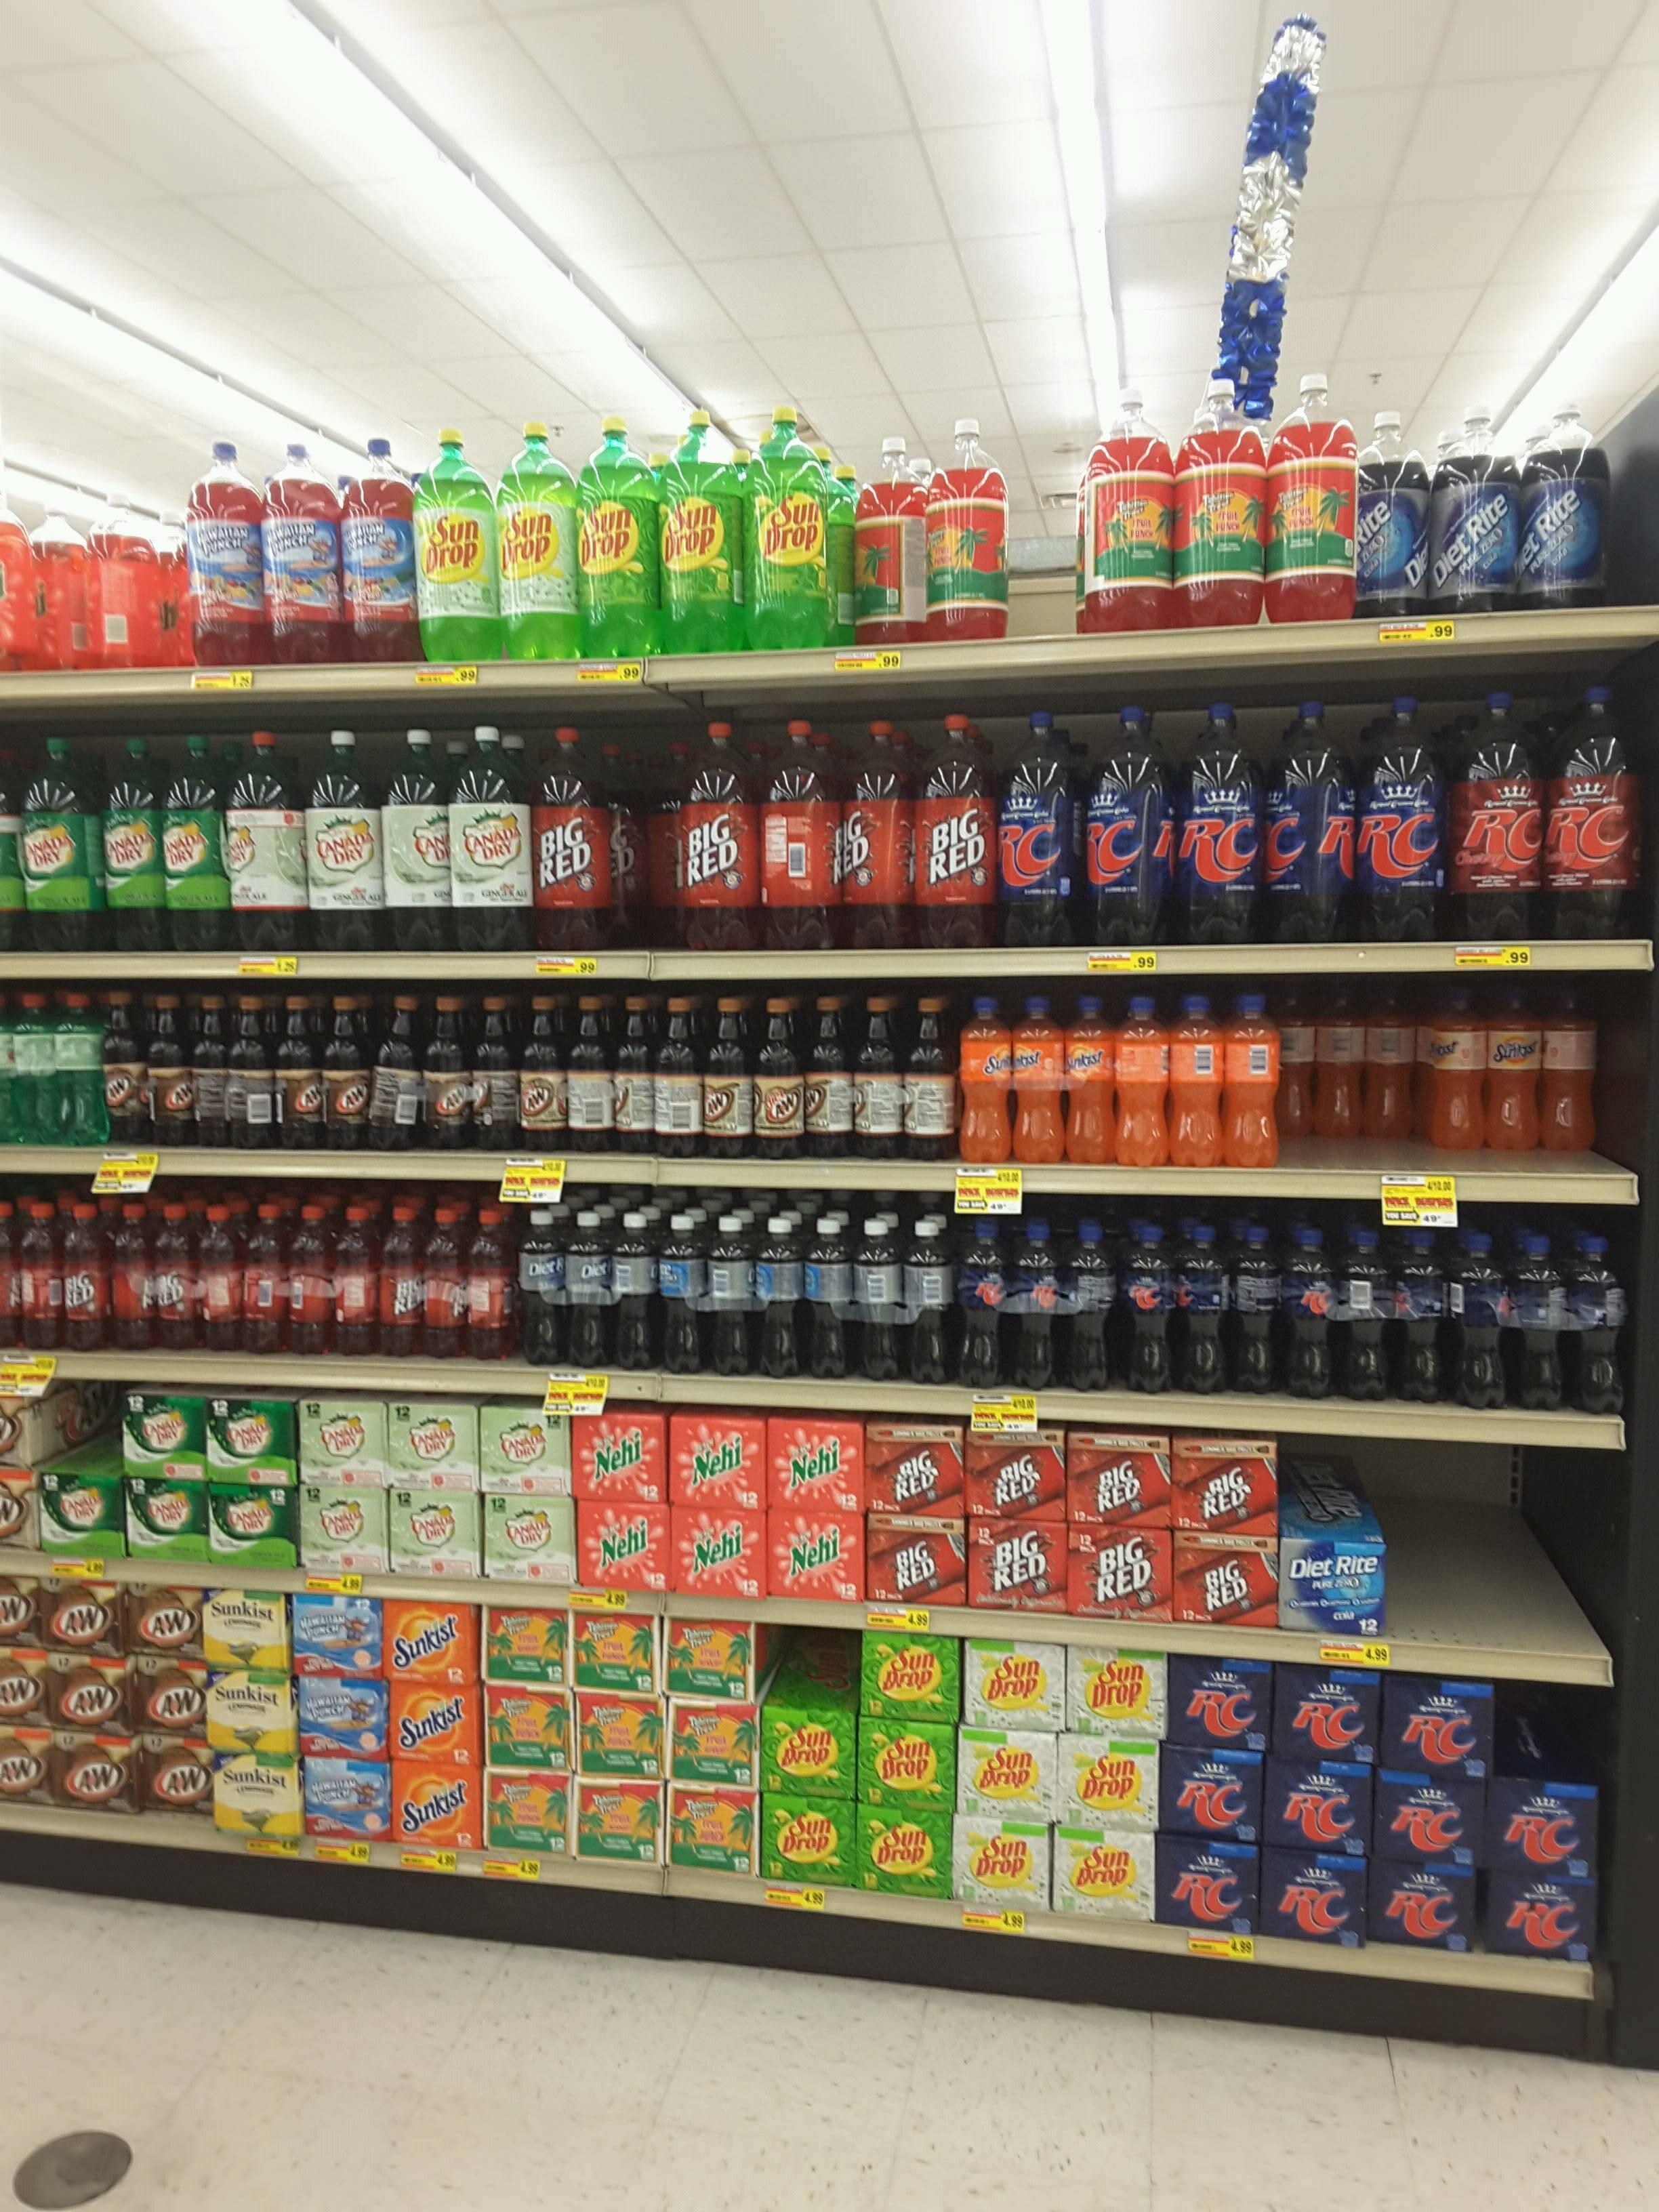empty: (1387, 1451, 1584, 1648), (1288, 1054, 1443, 1174)
